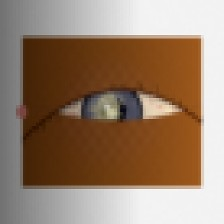corneal_ulcer: (79, 88, 137, 134)
